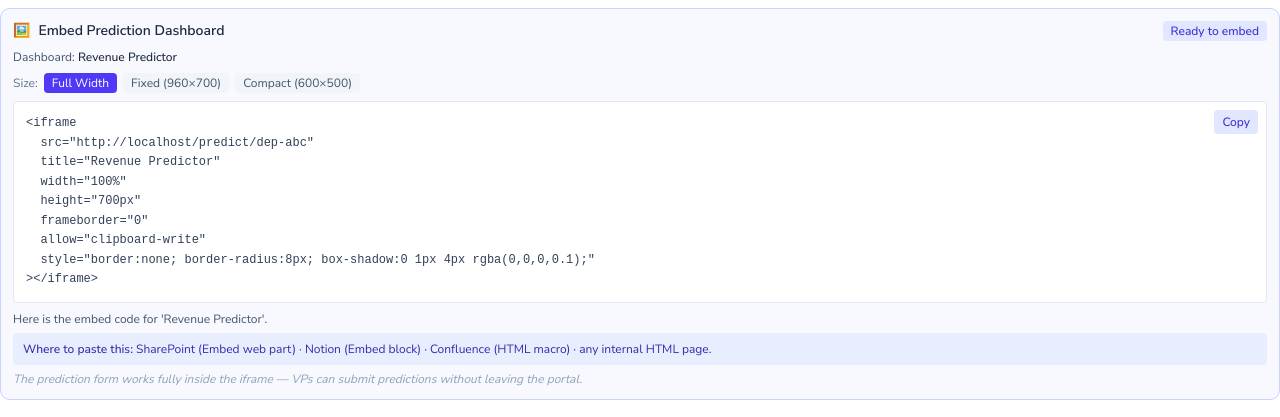
EmbedCodeCard › changing preset updates the iframe dimensions in code block
Click the button with test id "preset-compact": x=298, y=83 [235, 73, 360, 93]
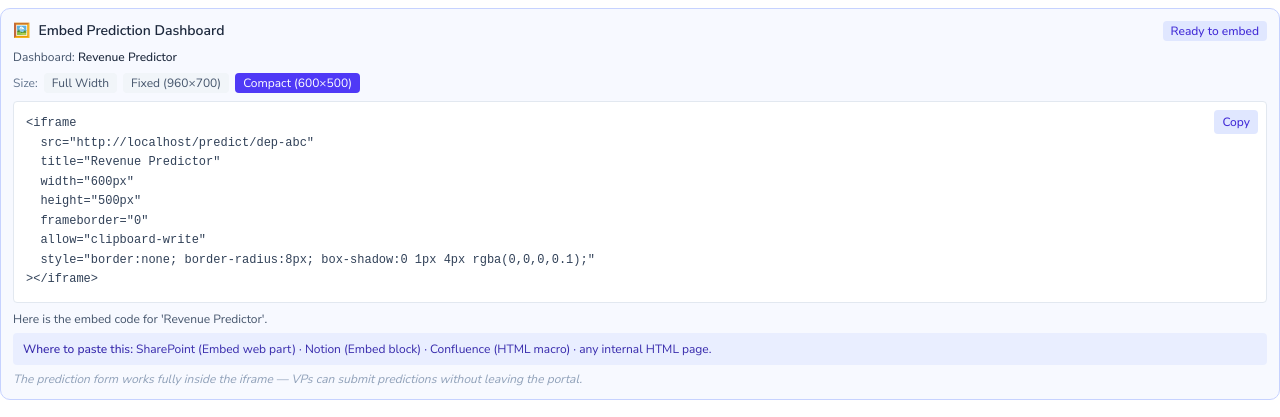
expect the element with test id "embed-code-block" shows "600px": met, box [26, 116, 595, 286]
expect the element with test id "embed-code-block" shows "500px": met, box [26, 116, 595, 286]
